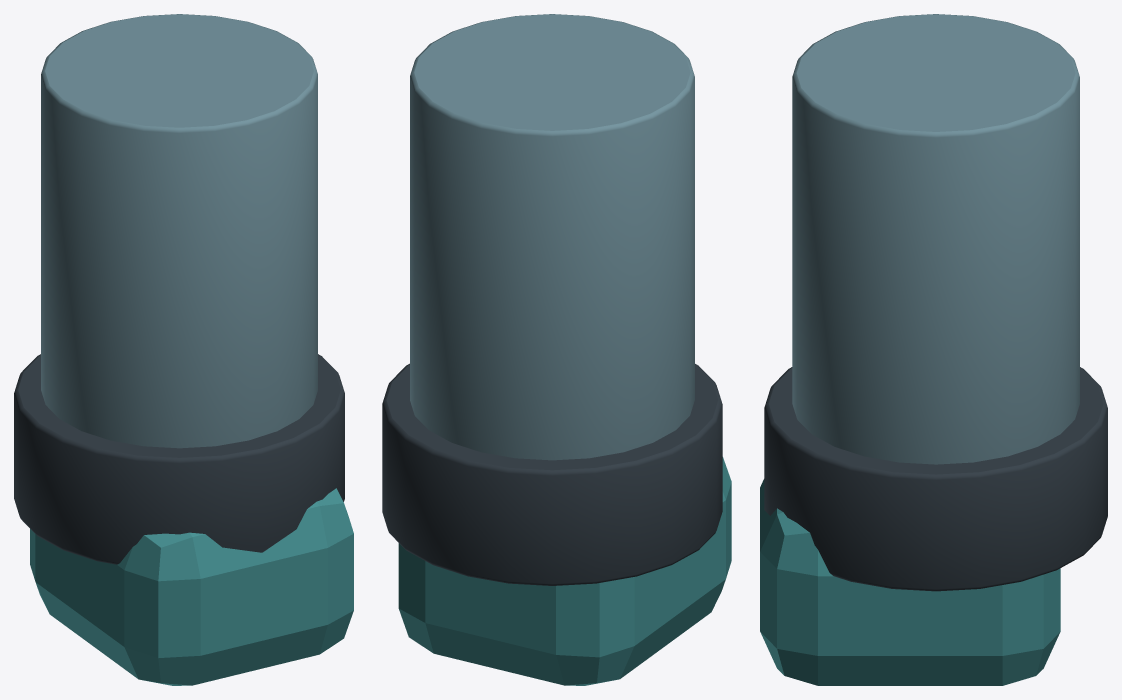
Rendered from forearm.glb.
3 views of the same model, side by side, from view 1: azimuth 30°, elevation 25°; view 2: azimuth 150°, elevation 25°; view 3: azimuth 270°, elevation 25° (orthographic). The views are drawn at different scales.
Visible parts, largest first — view 1: Sleeve, Glove, Cuff; view 2: Sleeve, Cuff, Glove; view 3: Sleeve, Cuff, Glove.
Boxes of the visible parts, x1=… form: Sleeve: x1=41, y1=14, x2=317, y2=448; Glove: x1=30, y1=488, x2=353, y2=685; Cuff: x1=14, y1=354, x2=344, y2=564; Sleeve: x1=410, y1=14, x2=694, y2=460; Cuff: x1=382, y1=363, x2=722, y2=585; Glove: x1=398, y1=457, x2=731, y2=685; Sleeve: x1=792, y1=14, x2=1079, y2=464; Cuff: x1=764, y1=367, x2=1107, y2=591; Glove: x1=760, y1=479, x2=1060, y2=685.
Size of the model in its own units: 0.16 by 0.2975 by 0.162.
